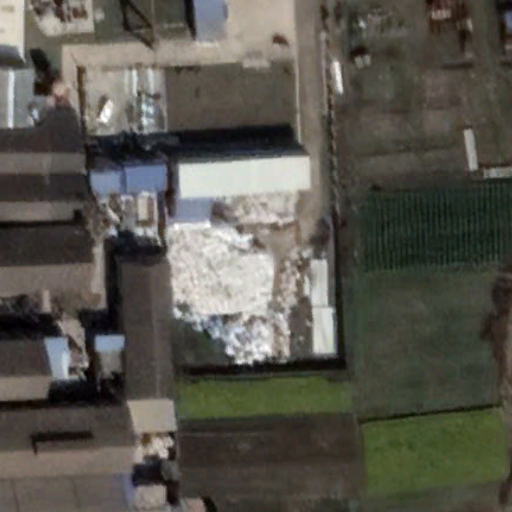msw: (164, 222, 305, 365)
